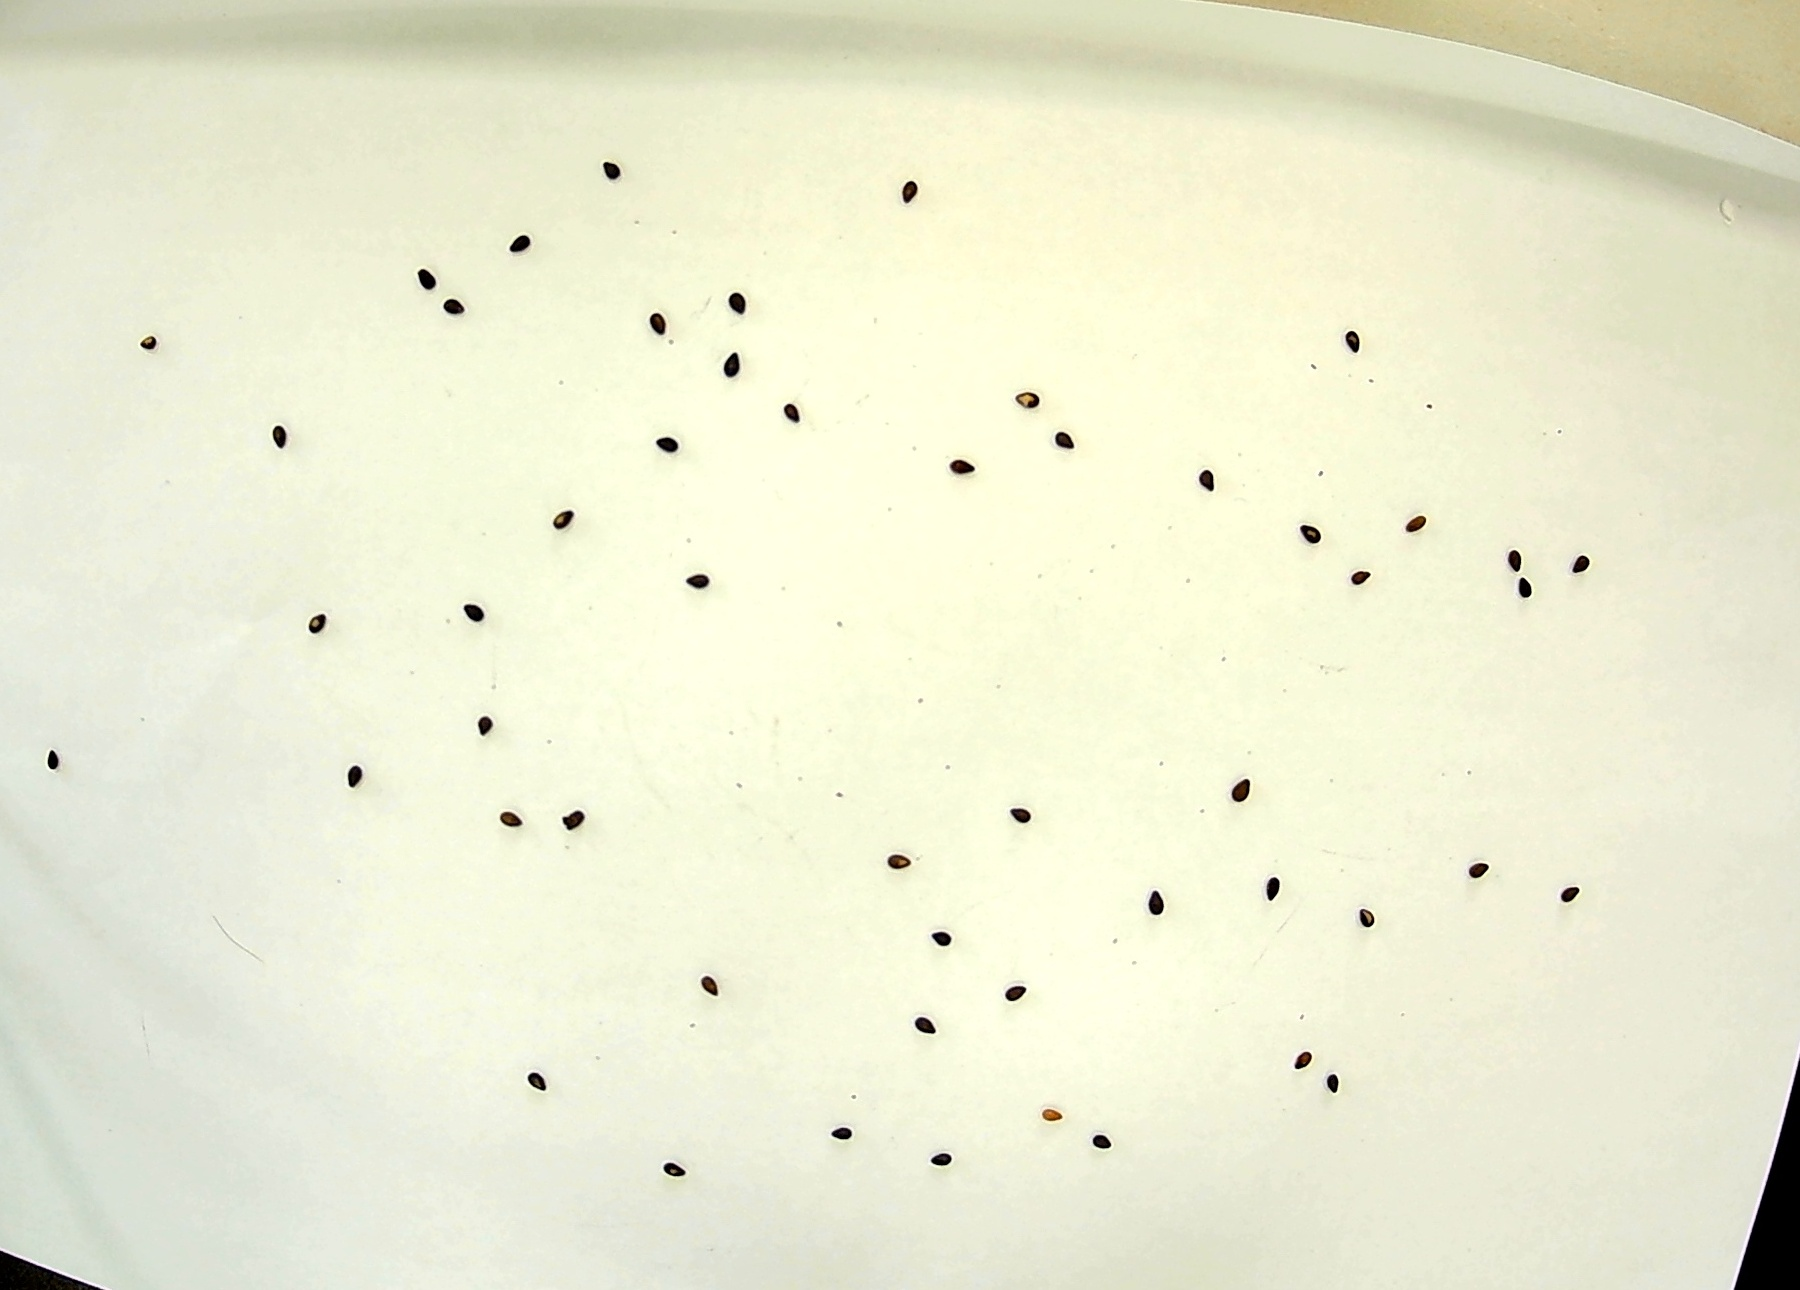sesami: (501, 223, 537, 257), (589, 159, 625, 193), (437, 289, 473, 322), (130, 331, 166, 364), (250, 419, 286, 452), (307, 611, 343, 645), (342, 750, 378, 783), (458, 704, 494, 737), (493, 811, 529, 845), (518, 1064, 554, 1097), (661, 1150, 698, 1184), (688, 967, 724, 1001), (1027, 1095, 1063, 1128), (928, 1141, 964, 1174), (907, 1009, 943, 1043), (920, 919, 956, 952), (882, 842, 918, 875), (547, 500, 583, 533), (721, 283, 758, 317), (707, 342, 744, 376), (892, 176, 928, 209), (1012, 373, 1048, 406), (1049, 422, 1086, 455), (929, 445, 966, 479), (1005, 796, 1041, 829), (992, 976, 1028, 1009), (1084, 1127, 1120, 1160), (1282, 1039, 1319, 1072), (1321, 1068, 1358, 1102), (1549, 875, 1585, 909), (1510, 579, 1546, 613), (1564, 544, 1600, 578), (1395, 505, 1432, 539), (1351, 565, 1387, 599), (1288, 515, 1324, 549), (1196, 458, 1232, 491), (1328, 328, 1365, 362), (407, 261, 442, 295), (38, 747, 73, 780), (546, 797, 580, 831), (1266, 870, 1300, 903), (1139, 887, 1173, 920), (449, 593, 486, 625), (822, 1115, 858, 1148), (680, 561, 716, 593), (653, 431, 689, 464), (645, 302, 681, 334), (1351, 905, 1387, 937), (1222, 771, 1259, 803), (1453, 847, 1489, 880), (1501, 547, 1538, 579), (774, 399, 809, 431)
